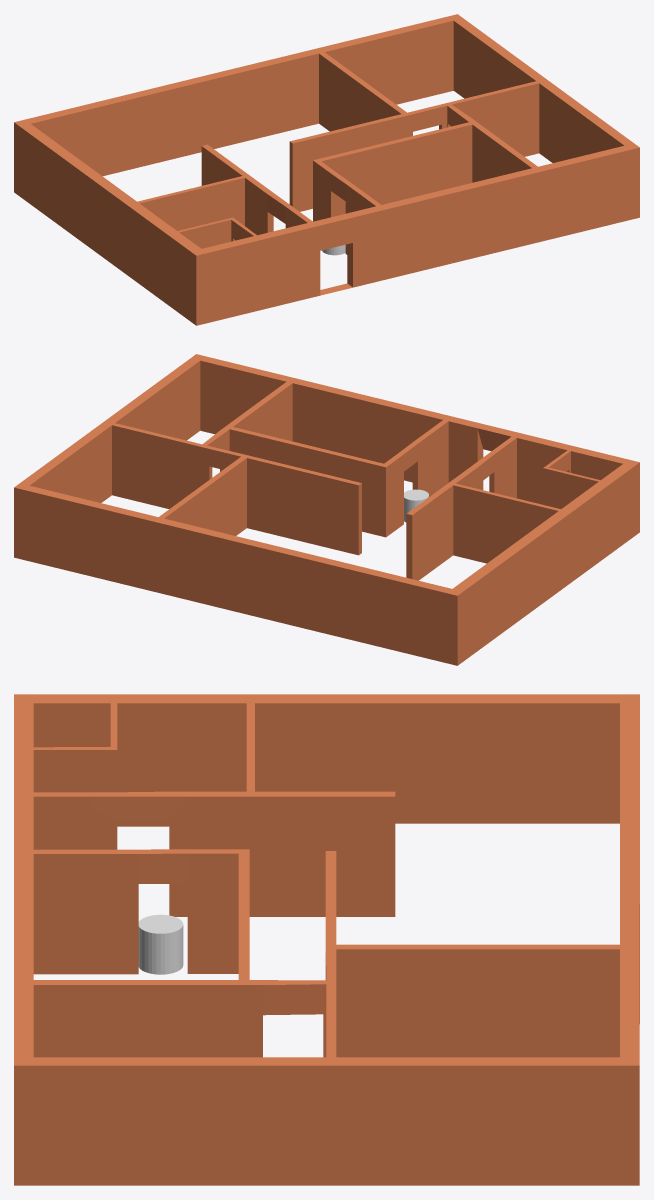
File: house2 1.fbx
3 renders of one model, top to bottom at view 1: azimuth 30°, elevation 25°; view 2: azimuth 150°, elevation 25°; view 3: azimuth 270°, elevation 25°, orthographic. The views are drawn at different scales.
Visible parts, largest first — view 1: border; view 2: border; view 3: border, PLayer.
Part boxes in pixels (box(x1,y1,x2,y2)): border: box(14, 14, 639, 325); border: box(14, 354, 639, 665); border: box(14, 694, 639, 1185); PLayer: box(138, 914, 183, 974).
Size of the model in its own units: 3312 by 500 by 2359.
